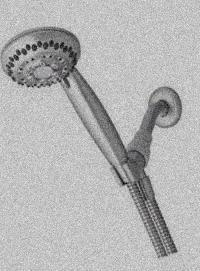Ducha: (0, 13, 199, 255)
